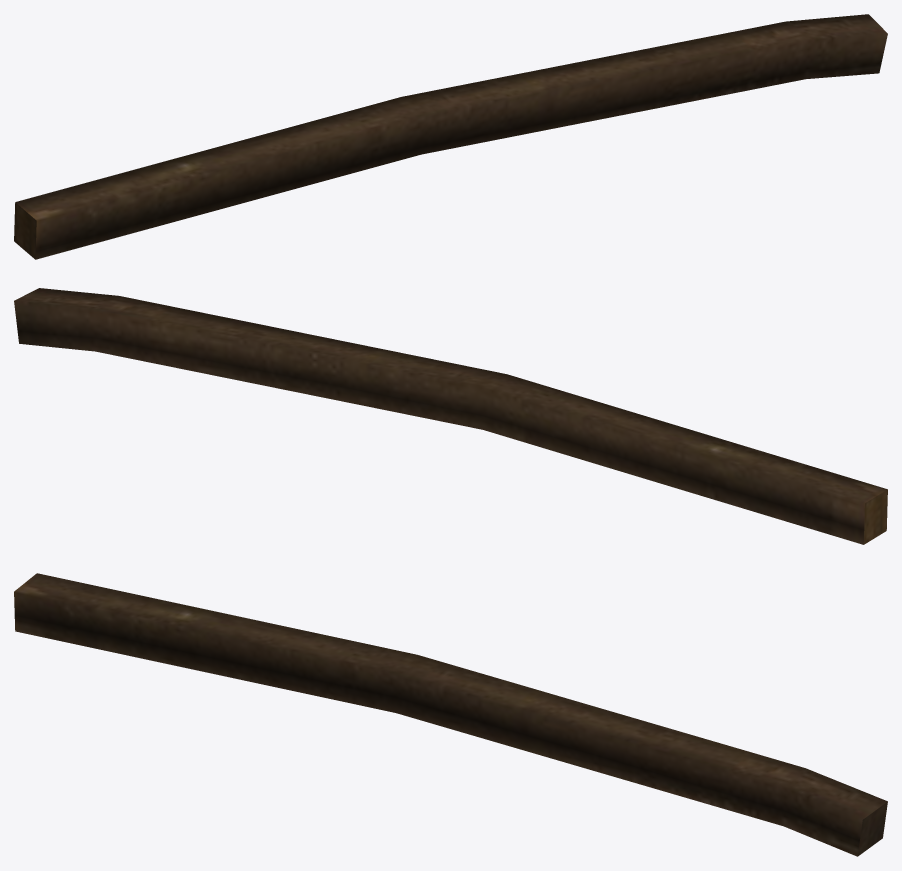
File: WoodPlank_02.FBX
3 renders of one model, top to bottom at view 1: azimuth 30°, elevation 25°; view 2: azimuth 150°, elevation 25°; view 3: azimuth 330°, elevation 25°, orthographic.
Visible parts, largest first — view 1: WoodPlank_02; view 2: WoodPlank_02; view 3: WoodPlank_02.
Boxes of the visible parts, bbox=[...] form: WoodPlank_02: bbox=[14, 14, 887, 259]; WoodPlank_02: bbox=[14, 288, 887, 544]; WoodPlank_02: bbox=[14, 573, 887, 856].
Size of the model in its own units: 143 by 11.47 by 9.07.
